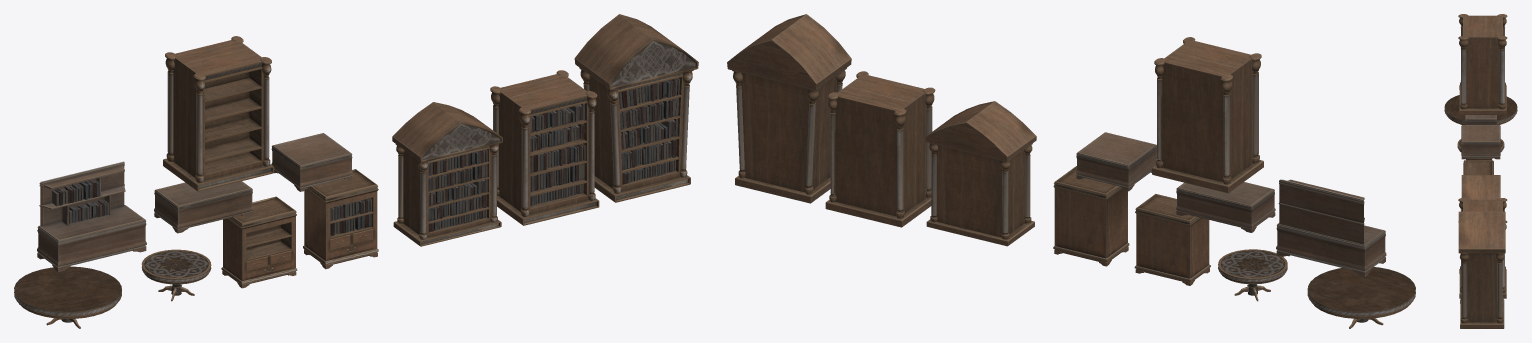
Rendered from Furniture_A.fbx.
3 renders of one model, left to right at view 1: azimuth 30°, elevation 25°; view 2: azimuth 150°, elevation 25°; view 3: azimuth 270°, elevation 25°, orthographic. The views are drawn at different scales.
Parts seen in each view (by area): view 1: Bookshelf_1A4, Bookshelf_1A1, Bookshelf_1A3, Bookshelf_1A4.001, Bookshelf_1A2, Countertop_1A3, Bookshelf_1A1.001, Bookshelf_1A2.001, Bookshelf_1A3.001, Round_Table_1A2, Countertop_1A3.001, Bookshelf_1B2 (+19 smaller); view 2: Bookshelf_1A1, Bookshelf_1A4, Bookshelf_1A3, Bookshelf_1A3.001, Bookshelf_1A2, Bookshelf_1A1.001, Bookshelf_1A2.001, Countertop_1A3, Bookshelf_1A4.001, Round_Table_1A2, Bookshelf_1B2, Bookshelf_1B1 (+9 smaller); view 3: Bookshelf_1A4, Bookshelf_1A1, Bookshelf_1A1.001, Bookshelf_1A4.001, Countertop_1A2, Bookshelf_1A2, Bookshelf_1A3, Round_Table_1A2, Countertop_1A2.001, Bookshelf_1B1, Bookshelf_1A2.001, Countertop_1A1 (+6 smaller).
Part boxes in pixels (box(x1,y1,x2,y2)): Bookshelf_1A4: box(163, 36, 273, 191); Bookshelf_1A1: box(574, 14, 698, 202); Bookshelf_1A3: box(490, 70, 599, 225); Bookshelf_1A4.001: box(163, 36, 274, 191); Bookshelf_1A2: box(392, 102, 502, 246); Countertop_1A3: box(37, 162, 146, 272); Bookshelf_1A1.001: box(575, 14, 698, 202); Bookshelf_1A2.001: box(392, 102, 502, 246); Bookshelf_1A3.001: box(490, 70, 598, 225); Round_Table_1A2: box(14, 266, 121, 328); Countertop_1A3.001: box(37, 161, 146, 270); Bookshelf_1B2: box(221, 196, 297, 288); Bookshelf_1A1: box(727, 16, 851, 203); Bookshelf_1A4: box(1152, 38, 1263, 193); Bookshelf_1A3: box(825, 72, 935, 226); Bookshelf_1A3.001: box(825, 71, 934, 227); Bookshelf_1A2: box(925, 101, 1036, 246); Bookshelf_1A1.001: box(733, 14, 850, 203); Bookshelf_1A2.001: box(926, 101, 1035, 245); Countertop_1A3: box(1276, 179, 1386, 276); Bookshelf_1A4.001: box(1152, 37, 1262, 192); Round_Table_1A2: box(1307, 267, 1415, 328); Bookshelf_1B2: box(1134, 194, 1209, 285); Bookshelf_1B1: box(1053, 166, 1129, 266); Bookshelf_1A4: box(1458, 15, 1507, 114); Bookshelf_1A1: box(1458, 211, 1505, 328); Bookshelf_1A1.001: box(1458, 211, 1505, 328); Bookshelf_1A4.001: box(1458, 14, 1506, 114); Countertop_1A2: box(1461, 125, 1500, 159); Bookshelf_1A2: box(1461, 175, 1500, 199); Bookshelf_1A3: box(1458, 199, 1507, 298); Round_Table_1A2: box(1444, 95, 1517, 124); Countertop_1A2.001: box(1461, 125, 1500, 158); Bookshelf_1B1: box(1463, 160, 1493, 174); Bookshelf_1A2.001: box(1461, 175, 1500, 194); Countertop_1A1: box(1465, 115, 1496, 124).
Bounding box in the file's own units: 2438 × 798 × 346.
